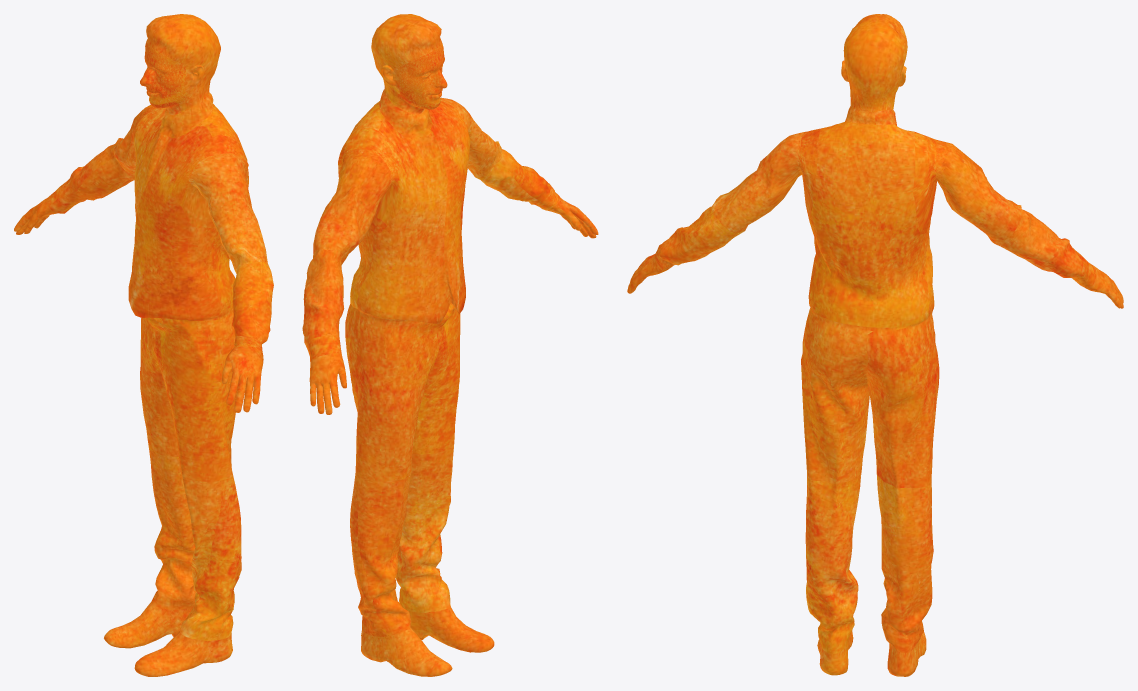
The model's file is freeman.gltf.
3 renders of one model, left to right at view 1: azimuth 30°, elevation 25°; view 2: azimuth 150°, elevation 25°; view 3: azimuth 270°, elevation 25°, orthographic.
Parts seen in each view (by area): view 1: rp_eric_rigged_001_geo; view 2: rp_eric_rigged_001_geo; view 3: rp_eric_rigged_001_geo.
Boxes of the visible parts, box(x1,y1,x2,y2) form: rp_eric_rigged_001_geo: box(14, 14, 273, 676); rp_eric_rigged_001_geo: box(302, 14, 598, 676); rp_eric_rigged_001_geo: box(627, 14, 1123, 676).
Bounding box in the file's own units: 38.43 × 186 × 131.
1 material, 1 textured.
